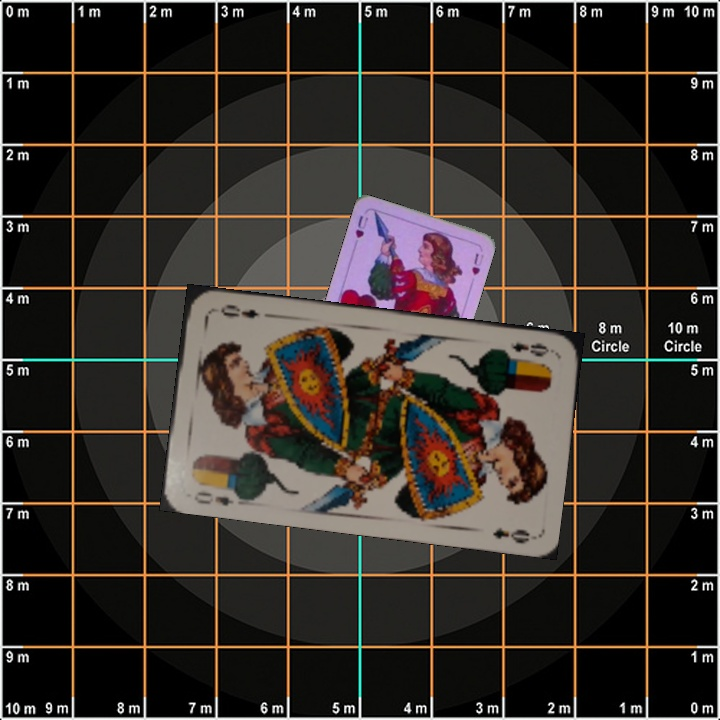EO: (496, 338, 556, 360), (190, 487, 237, 508)
HU: (350, 211, 371, 249)
